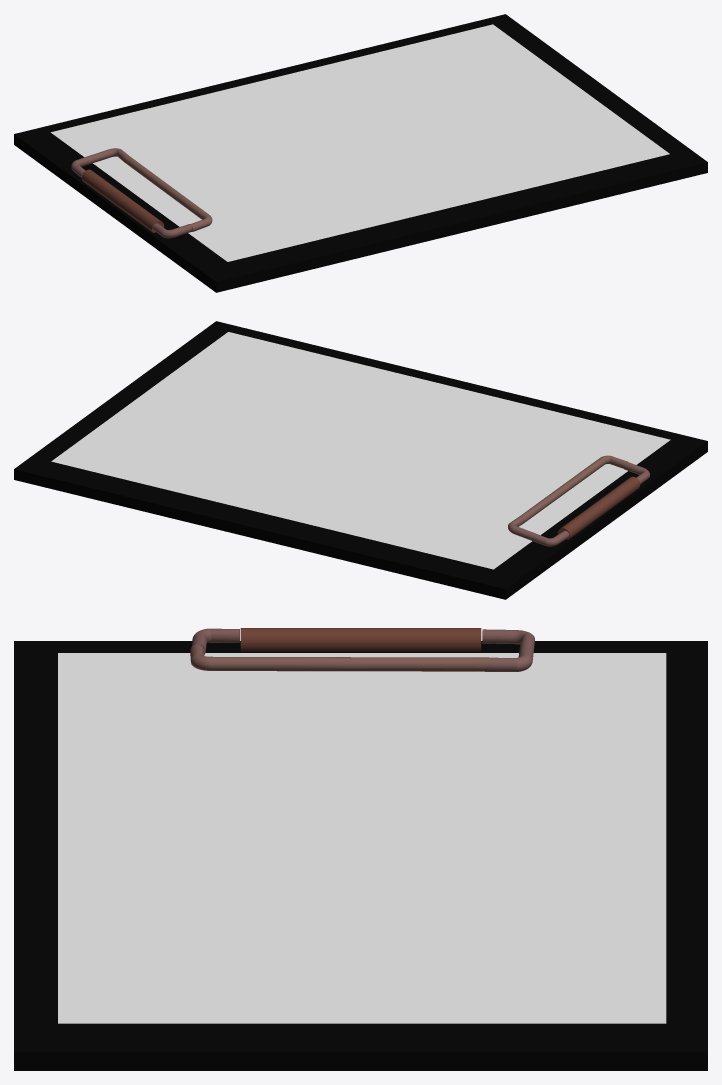
The model's file is Borad.fbx.
3 views of the same model, one above another, from view 1: azimuth 30°, elevation 25°; view 2: azimuth 150°, elevation 25°; view 3: azimuth 270°, elevation 25° (orthographic). The views are drawn at different scales.
Visible parts, largest first — view 1: 平面, 立方体, 円柱, 円柱.003; view 2: 平面, 立方体, 円柱, 円柱.003; view 3: 平面, 立方体, 円柱, 円柱.003, 円柱.004, 円柱.001, 円柱.002.
Part boxes in pixels (box(x1,y1,x2,y2)): 平面: box(51, 24, 669, 261); 立方体: box(14, 14, 707, 292); 円柱: box(81, 169, 164, 232); 円柱.003: box(123, 155, 212, 231); 平面: box(51, 332, 670, 569); 立方体: box(14, 321, 707, 599); 円柱: box(557, 476, 640, 539); 円柱.003: box(519, 455, 627, 522); 平面: box(58, 653, 666, 1023); 立方体: box(14, 641, 707, 1070); 円柱: box(240, 628, 481, 651); 円柱.003: box(190, 644, 488, 671); 円柱.004: box(484, 639, 533, 671); 円柱.001: box(482, 629, 534, 651); 円柱.002: box(192, 628, 239, 654).
Size of the model in its own units: 77.44 by 3.69 by 55.18.
